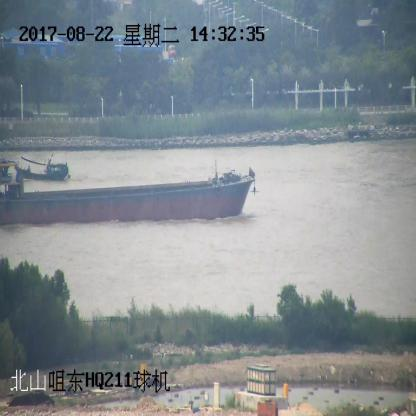Fishing Boat: (14, 158, 71, 183)
